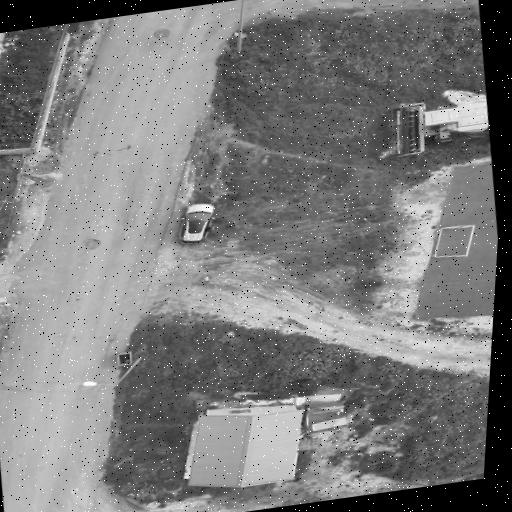car: (179, 204, 214, 244)
harvester: (390, 102, 489, 156)
